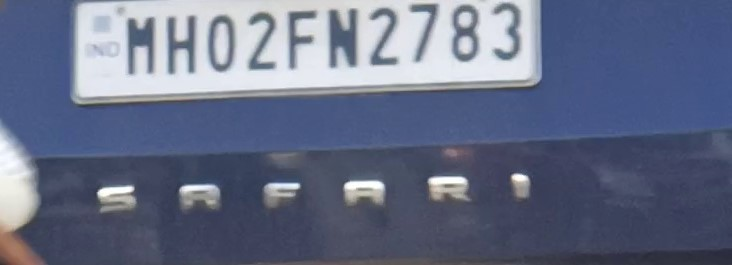MH02FN2783: (69, 3, 546, 98)
